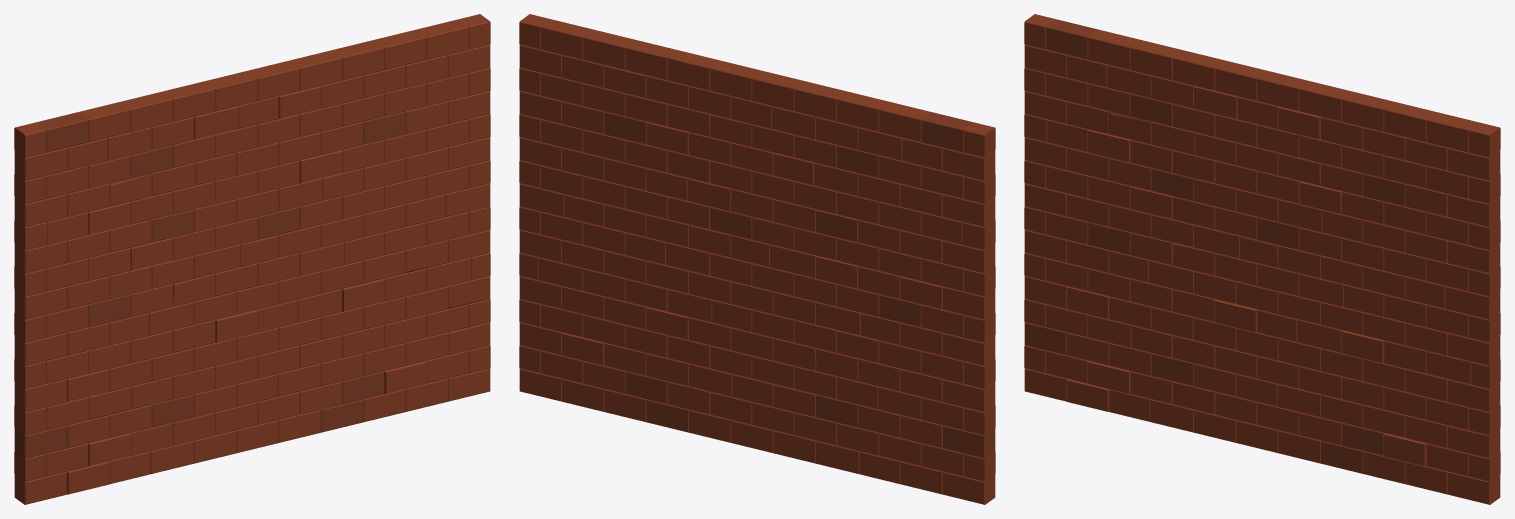
Rendered from Wall_06.fbx.
3 views of the same model, side by side, from view 1: azimuth 30°, elevation 25°; view 2: azimuth 150°, elevation 25°; view 3: azimuth 330°, elevation 25° (orthographic).
Parts seen in each view (by area): view 1: Wall_06; view 2: Wall_06; view 3: Wall_06.
Boxes of the visible parts, left/top/right/bottom form: Wall_06: left=14, top=14, right=490, bottom=504; Wall_06: left=519, top=14, right=995, bottom=504; Wall_06: left=1024, top=14, right=1500, bottom=504.
Bounding box in the file's own units: 500 × 380 × 22.32.
